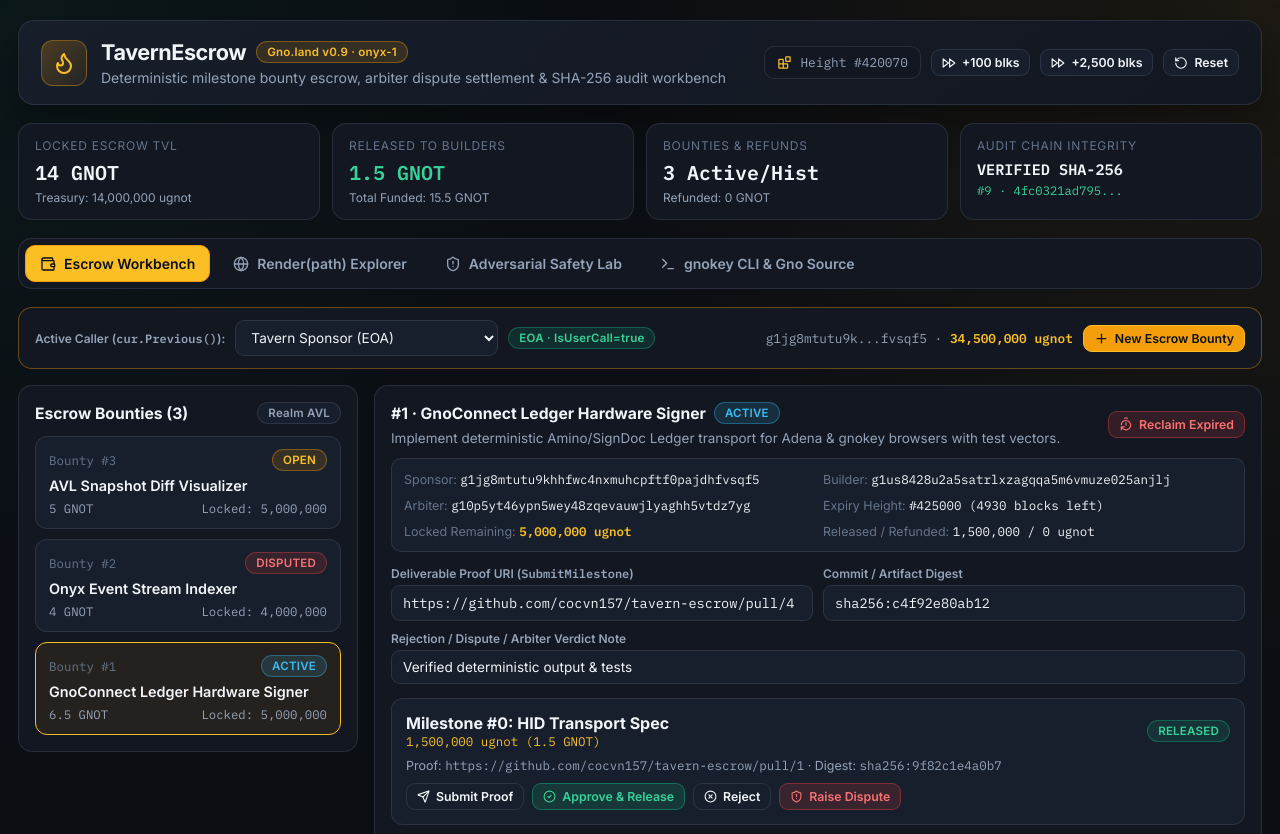
it: TavernEscrow Interactive Console UI › blocks CodeRealm attacker when attempting CreateBounty in the UI
The width and height of the screenshot is (1280, 834).
Select "Attacker CodeRealm (/r/evil/drain)" in the dropdown labelled "Active Caller (cur.Previous()):" at (367, 338), box [235, 320, 498, 356]
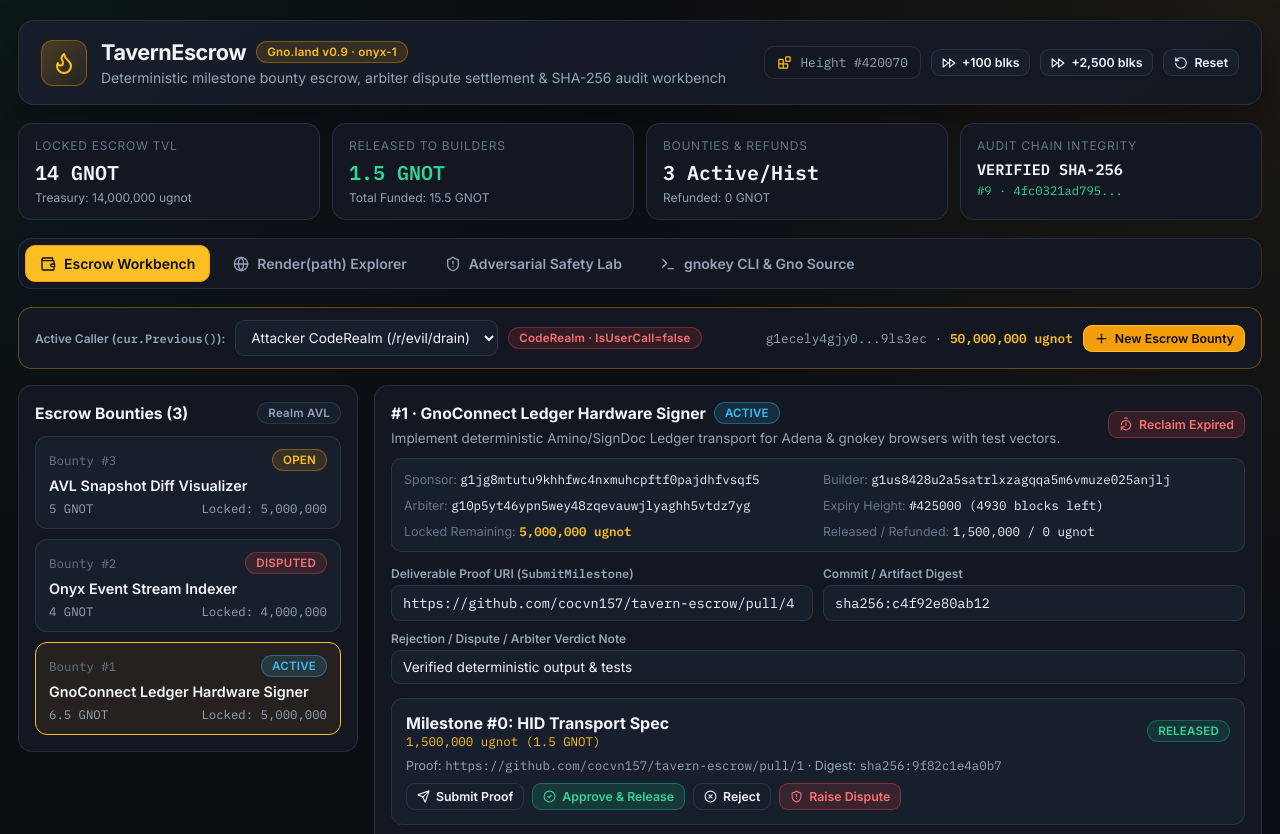
Click the button "New Escrow Bounty" at (1164, 338), box [1083, 324, 1245, 352]
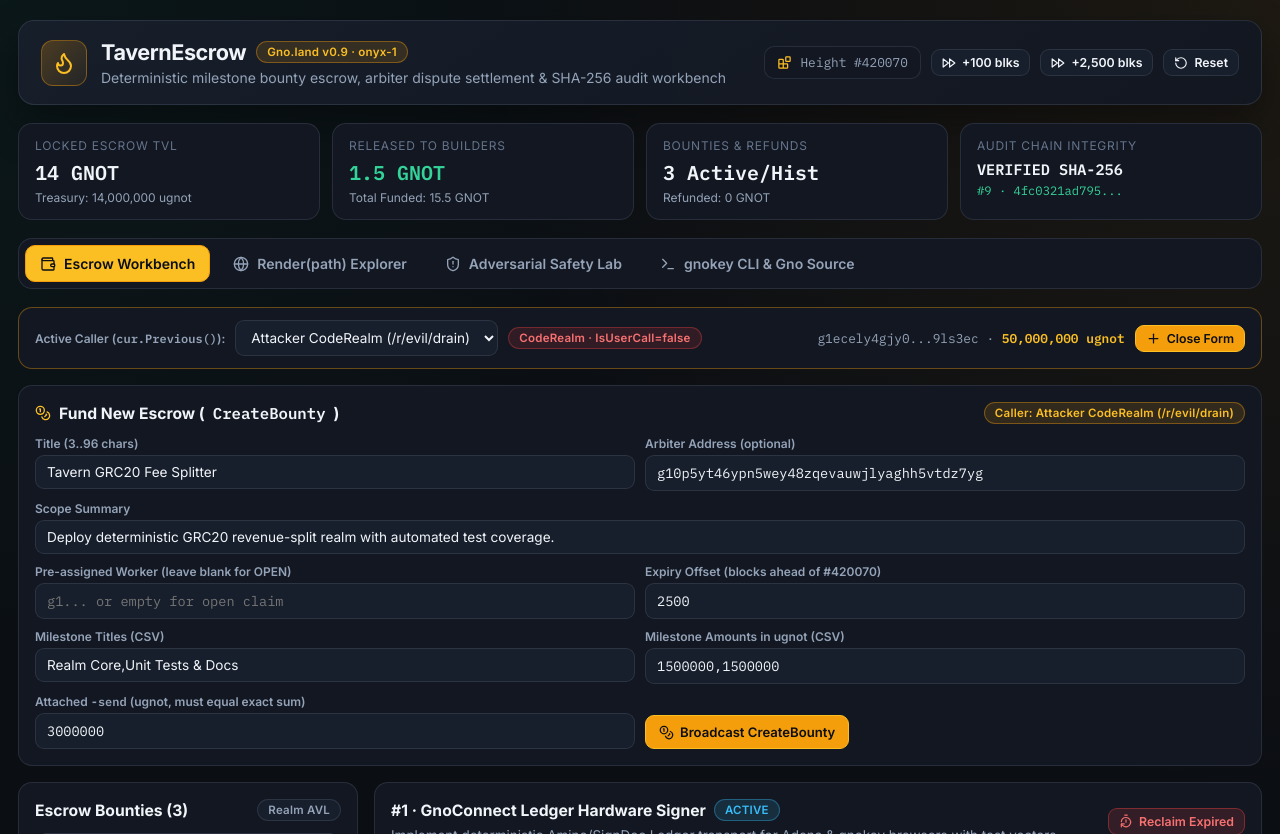
Click the button "Broadcast CreateBounty" at (747, 732), box [645, 715, 849, 749]
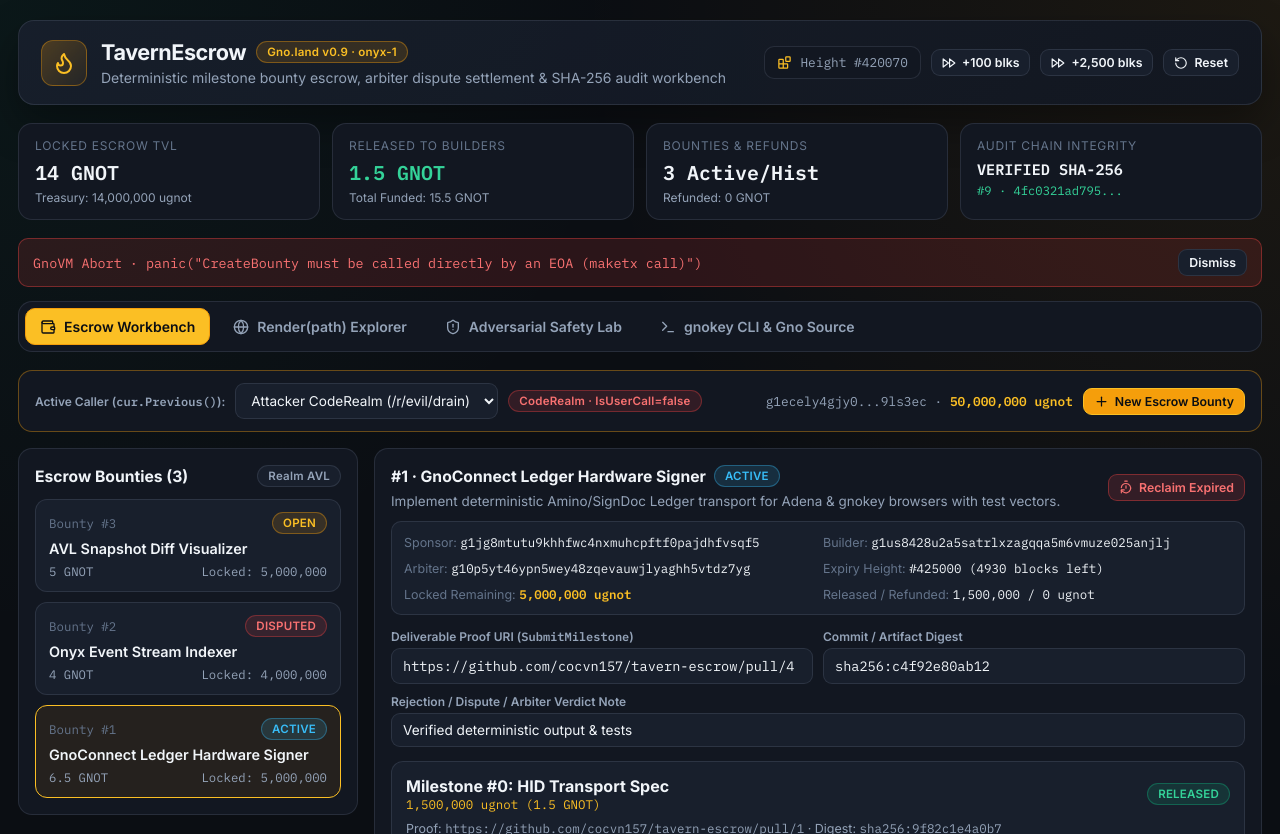
Expected: the message shows "CreateBounty must be called directly by an EOA (maketx call)", [33, 254, 702, 272]
